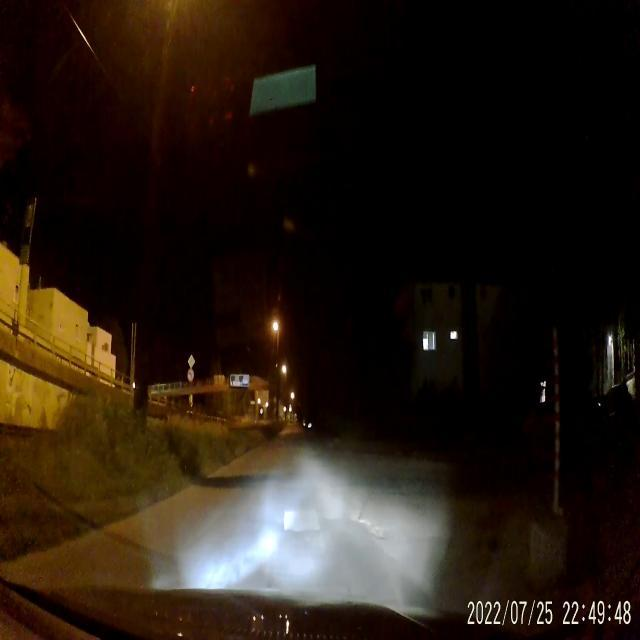Pothole: (283, 505, 323, 537)
